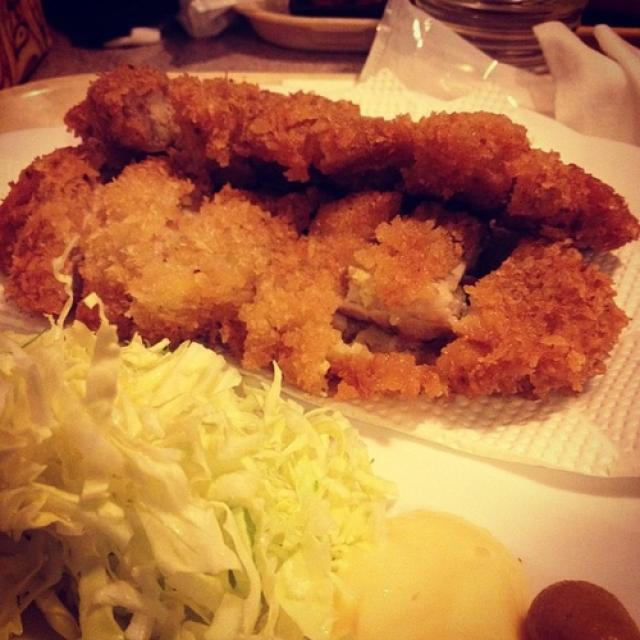鸡肉料理 含炸鸡: (26, 34, 631, 428)
